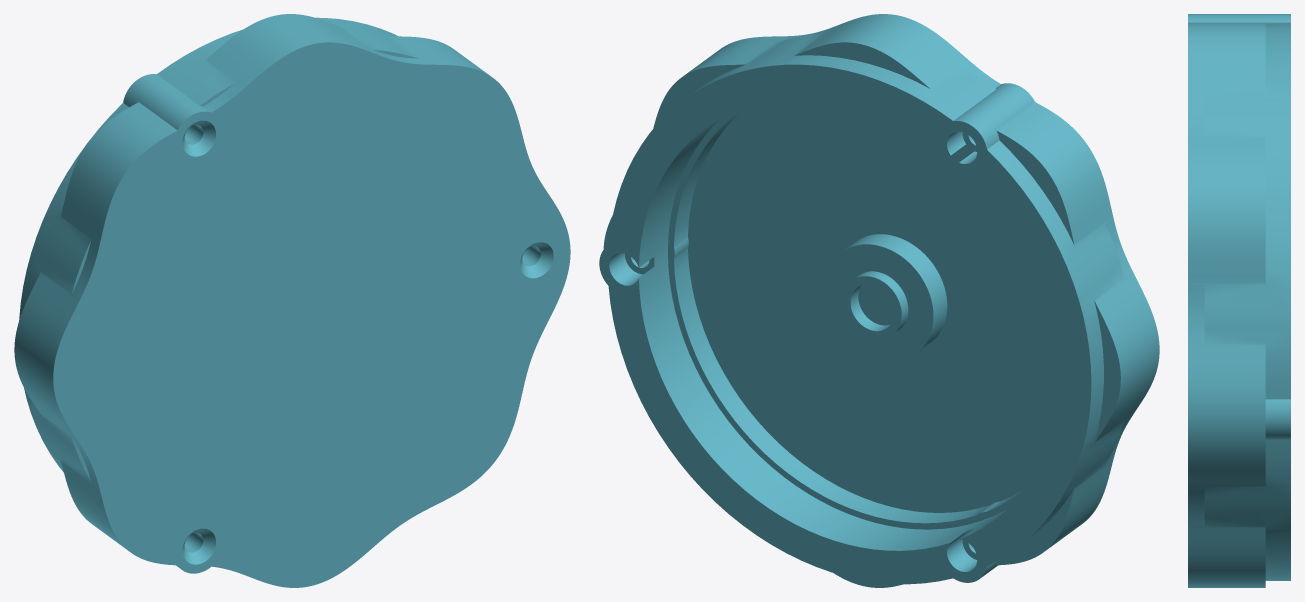
File: Cap_wave_rim.glb
The picture shows the model from 3 angles, left to right: view 1: azimuth 30°, elevation 25°; view 2: azimuth 150°, elevation 25°; view 3: azimuth 270°, elevation 25°; orthographic projection.
Parts seen in each view (by area): view 1: Cap_wave_rim_0; view 2: Cap_wave_rim_0; view 3: Cap_wave_rim_0.
Boxes of the visible parts, left/top/right/bottom form: Cap_wave_rim_0: left=14, top=14, right=570, bottom=587; Cap_wave_rim_0: left=599, top=14, right=1159, bottom=587; Cap_wave_rim_0: left=1188, top=14, right=1290, bottom=587.
Size of the model in its own units: 61.6 by 61.6 by 10.6.
